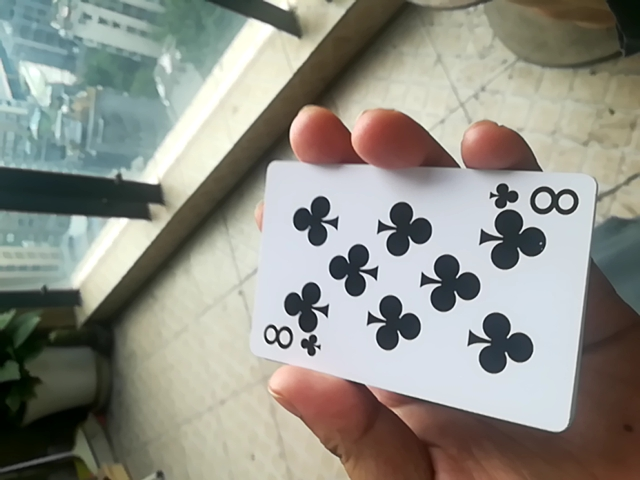mh 8: (248, 151, 596, 448)
